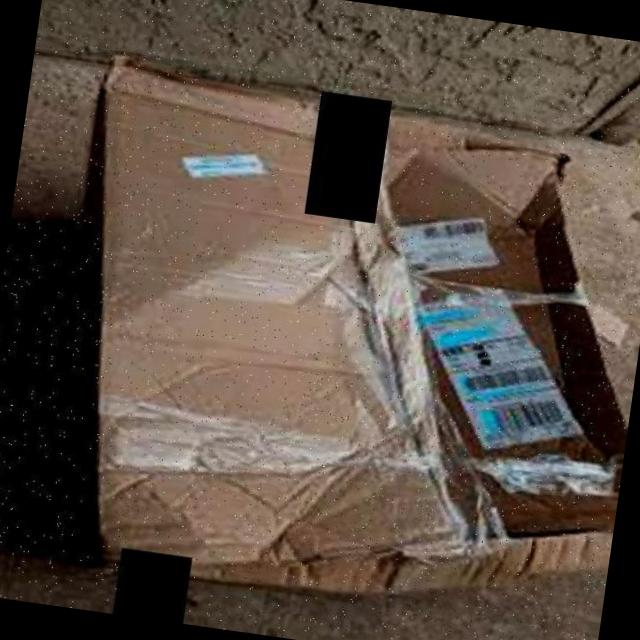box: (27, 48, 640, 637)
